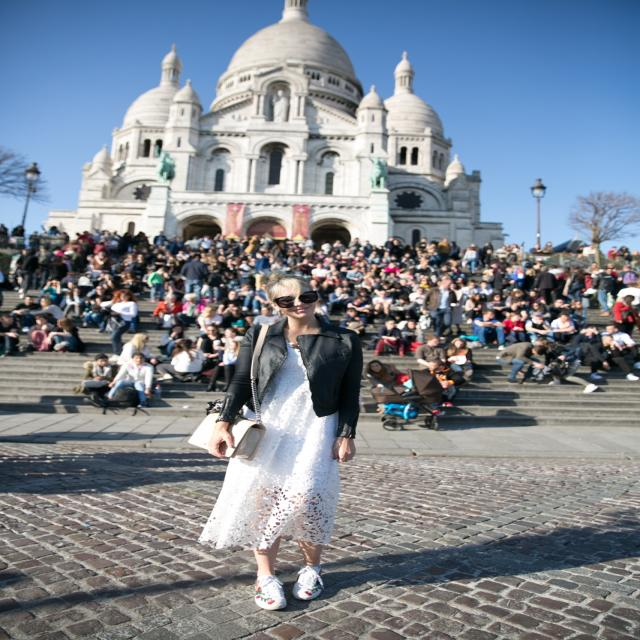body: (192, 269, 396, 610), (75, 228, 471, 288), (534, 336, 598, 393), (100, 352, 154, 408), (100, 290, 139, 361), (582, 334, 640, 380), (1, 224, 75, 255), (424, 360, 463, 417), (154, 339, 204, 382), (422, 277, 456, 339), (498, 342, 546, 384), (77, 354, 118, 401), (115, 332, 159, 366), (472, 308, 506, 351), (180, 254, 209, 304), (415, 334, 448, 372), (446, 337, 474, 381), (46, 318, 80, 353), (364, 360, 405, 389), (592, 268, 616, 317), (158, 324, 190, 360), (15, 250, 38, 300), (612, 294, 637, 339), (532, 265, 558, 307), (176, 292, 208, 326), (502, 254, 532, 290), (196, 326, 224, 364), (151, 294, 179, 330), (39, 255, 76, 282), (550, 311, 578, 346), (599, 324, 638, 348), (525, 312, 552, 346), (13, 296, 40, 328), (80, 297, 107, 329), (198, 305, 224, 338), (28, 298, 66, 320), (146, 266, 168, 302), (339, 307, 368, 334), (61, 288, 87, 318), (245, 306, 281, 327), (502, 312, 526, 343), (399, 319, 418, 357), (252, 252, 270, 292), (222, 306, 246, 336), (616, 264, 639, 295), (617, 282, 640, 313), (464, 292, 486, 324), (327, 286, 349, 318), (568, 300, 587, 337), (218, 291, 242, 320), (41, 279, 64, 308), (568, 264, 585, 303), (216, 341, 241, 367), (372, 282, 422, 295), (223, 327, 244, 357), (377, 318, 403, 342), (76, 270, 94, 302), (389, 294, 420, 312), (235, 283, 254, 311), (460, 280, 478, 308), (28, 316, 56, 334), (0, 314, 21, 338), (251, 283, 270, 309), (550, 298, 572, 320), (311, 263, 328, 291), (348, 288, 371, 308), (528, 301, 552, 319), (487, 293, 509, 312), (90, 250, 110, 270), (2, 256, 15, 286), (483, 248, 499, 271), (465, 247, 478, 275), (572, 244, 598, 258), (620, 246, 640, 264), (210, 282, 230, 300), (346, 266, 364, 285), (481, 264, 502, 280), (372, 290, 392, 306), (583, 272, 595, 298), (86, 283, 112, 295), (558, 266, 568, 297), (481, 242, 495, 263), (526, 290, 542, 308), (469, 242, 482, 264), (499, 242, 522, 254), (476, 281, 494, 295), (509, 290, 524, 305), (316, 294, 326, 316), (537, 242, 554, 254), (578, 325, 598, 335), (449, 283, 458, 305), (606, 263, 619, 277), (608, 246, 620, 260), (116, 282, 142, 288), (529, 244, 543, 255), (171, 282, 179, 293), (587, 262, 601, 268), (562, 250, 574, 257), (85, 297, 94, 306), (532, 262, 558, 265), (66, 282, 76, 288), (228, 304, 235, 310), (366, 282, 372, 286)
